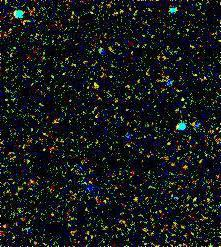star: (83, 67, 113, 97)
